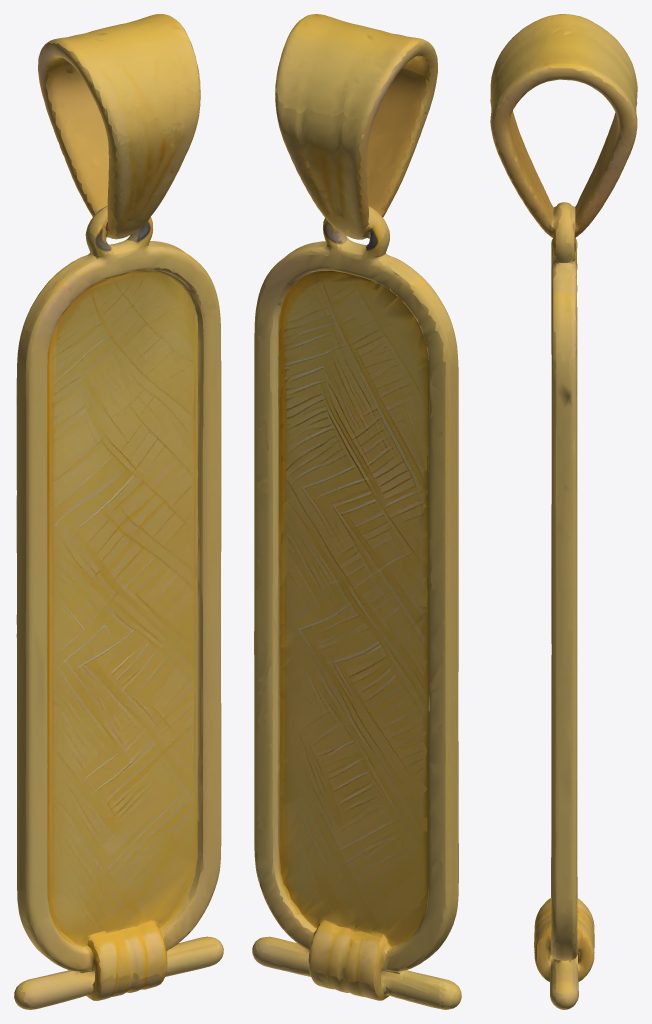
File: 3dmodel-9MN9CsHe.glb
The picture shows the model from 3 angles, left to right: view 1: azimuth 30°, elevation 25°; view 2: azimuth 150°, elevation 25°; view 3: azimuth 270°, elevation 25°; orthographic projection. The views are drawn at different scales.
Parts seen in each view (by area): view 1: textured_mesh; view 2: textured_mesh; view 3: textured_mesh.
Boxes of the visible parts, bbox=[...] form: textured_mesh: bbox=[14, 14, 223, 1009]; textured_mesh: bbox=[252, 14, 461, 1009]; textured_mesh: bbox=[490, 14, 637, 1009].
Bounding box in the file's own units: 0.4481 × 1.99 × 0.2854.
1 material, 1 textured.
